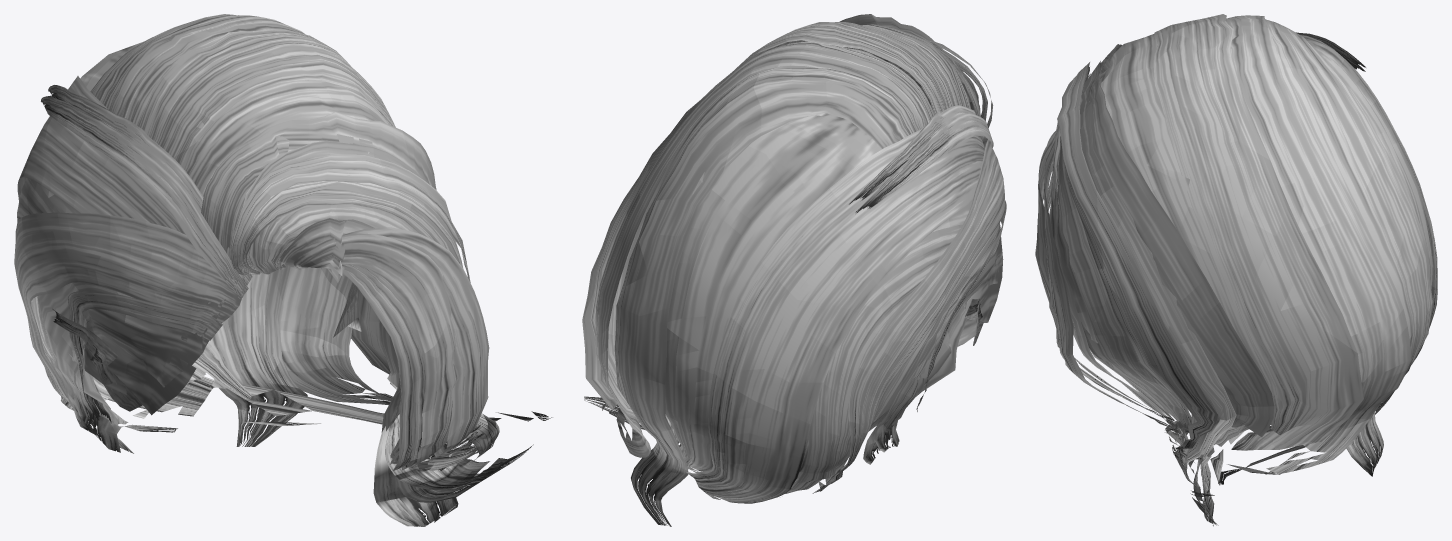
Rendered from daz_hair_adrienne_updo.glb.
3 views of the same model, side by side, from view 1: azimuth 30°, elevation 25°; view 2: azimuth 150°, elevation 25°; view 3: azimuth 270°, elevation 25° (orthographic). The views are drawn at different scales.
Parts seen in each view (by area): view 1: daz_hair_adrienne_updo; view 2: daz_hair_adrienne_updo; view 3: daz_hair_adrienne_updo.
Part boxes in pixels (x1,y1,x2,y2): daz_hair_adrienne_updo: (14,14,552,526); daz_hair_adrienne_updo: (582,14,1006,526); daz_hair_adrienne_updo: (1035,14,1437,526).
Size of the model in its own units: 0.2527 by 0.2711 by 0.2366.
1 material, 1 textured.
